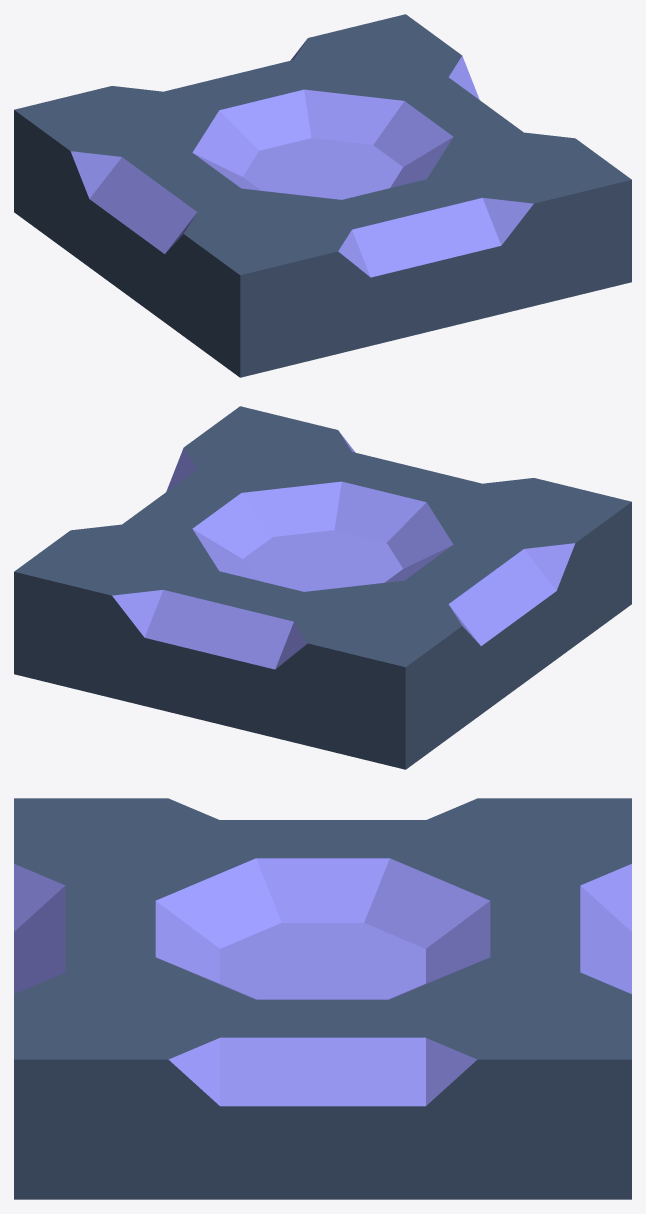
The model's file is BuildingPlace_Quad.fbx.
3 renders of one model, top to bottom at view 1: azimuth 30°, elevation 25°; view 2: azimuth 150°, elevation 25°; view 3: azimuth 270°, elevation 25°, orthographic. The views are drawn at different scales.
Visible parts, largest first — view 1: BuildingPlace_Quad; view 2: BuildingPlace_Quad; view 3: BuildingPlace_Quad.
Part boxes in pixels (<box>): BuildingPlace_Quad: <box>14,14,631,377</box>; BuildingPlace_Quad: <box>14,406,631,769</box>; BuildingPlace_Quad: <box>14,798,631,1199</box>.
Size of the model in its own units: 3 by 0.75 by 3.
